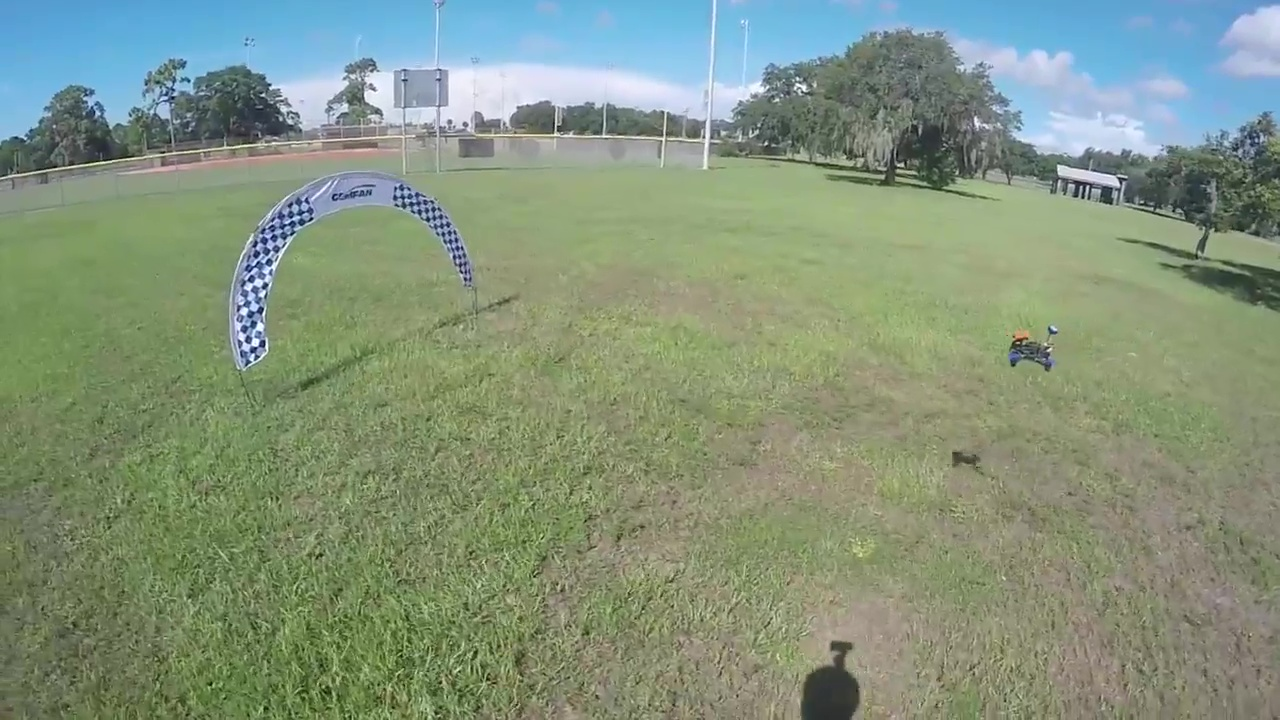gate: (226, 170, 479, 367)
